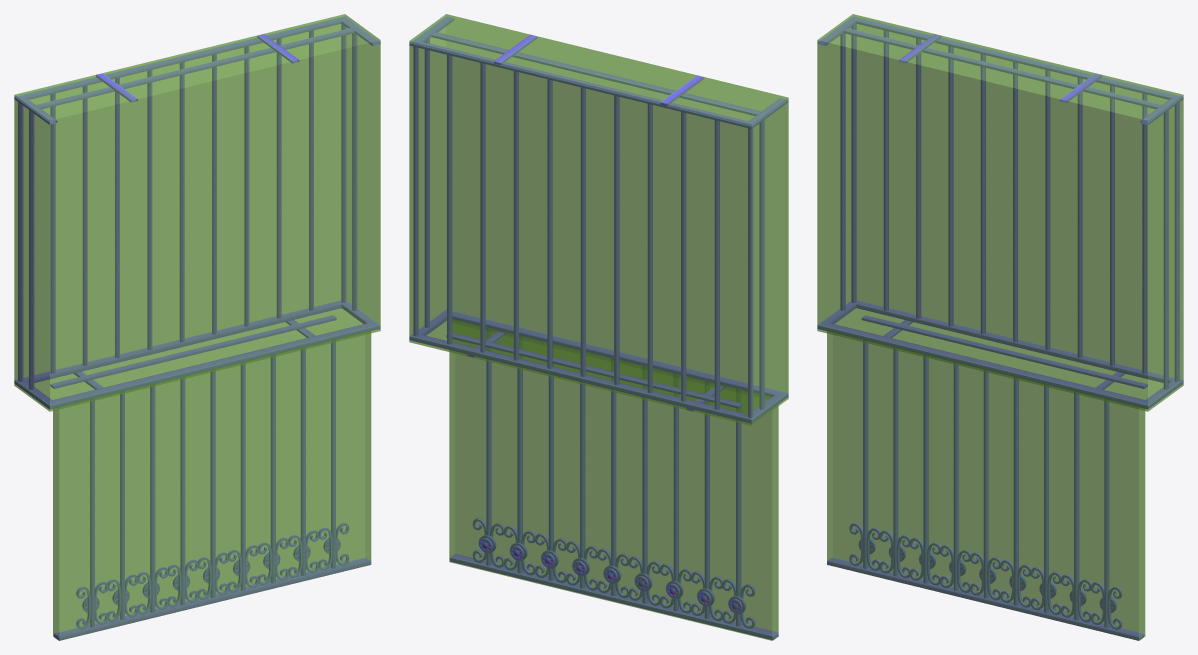
File: F_Cage_L_03.fbx
The picture shows the model from 3 angles, left to right: view 1: azimuth 30°, elevation 25°; view 2: azimuth 150°, elevation 25°; view 3: azimuth 330°, elevation 25°; orthographic projection. The views are drawn at different scales.
Visible parts, largest first — view 1: F_Cage_L_03_col_02, F_Cage_L_03_col_01, F_Cage_L_03_LOD0; view 2: F_Cage_L_03_col_02, F_Cage_L_03_col_01, F_Cage_L_03_LOD0; view 3: F_Cage_L_03_col_02, F_Cage_L_03_col_01, F_Cage_L_03_LOD0.
Part boxes in pixels (x1,y1,x2,y2): F_Cage_L_03_col_02: [14, 14, 380, 411]; F_Cage_L_03_col_01: [53, 330, 371, 640]; F_Cage_L_03_LOD0: [14, 16, 380, 640]; F_Cage_L_03_col_02: [409, 14, 788, 425]; F_Cage_L_03_col_01: [449, 319, 778, 640]; F_Cage_L_03_LOD0: [409, 16, 788, 639]; F_Cage_L_03_col_02: [817, 14, 1183, 411]; F_Cage_L_03_col_01: [827, 330, 1145, 640]; F_Cage_L_03_LOD0: [817, 16, 1183, 640].
Size of what is drawn, in the model's own units: 185 by 279 by 34.55.
Materials: 2 (1 with a texture image).
